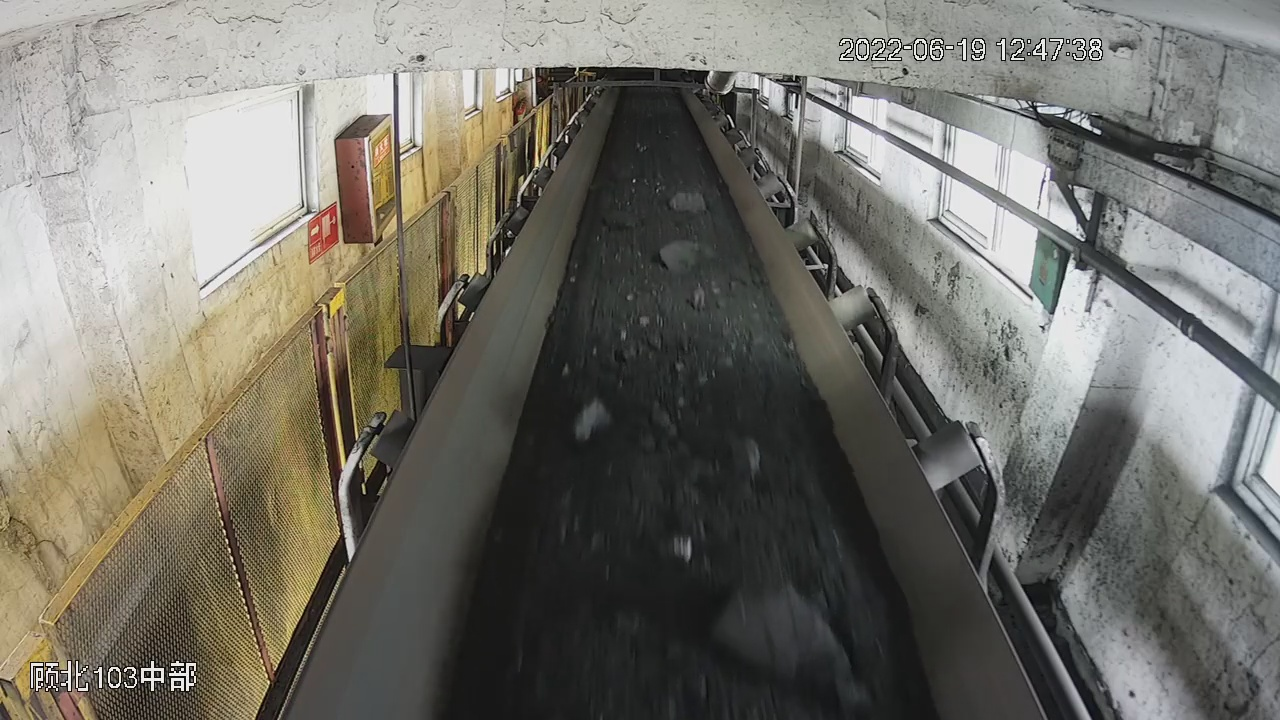gangue: (709, 577, 861, 703), (572, 386, 607, 439), (661, 239, 721, 269), (735, 430, 763, 480), (663, 528, 695, 561), (668, 192, 707, 215), (606, 211, 639, 231), (693, 285, 702, 307)
